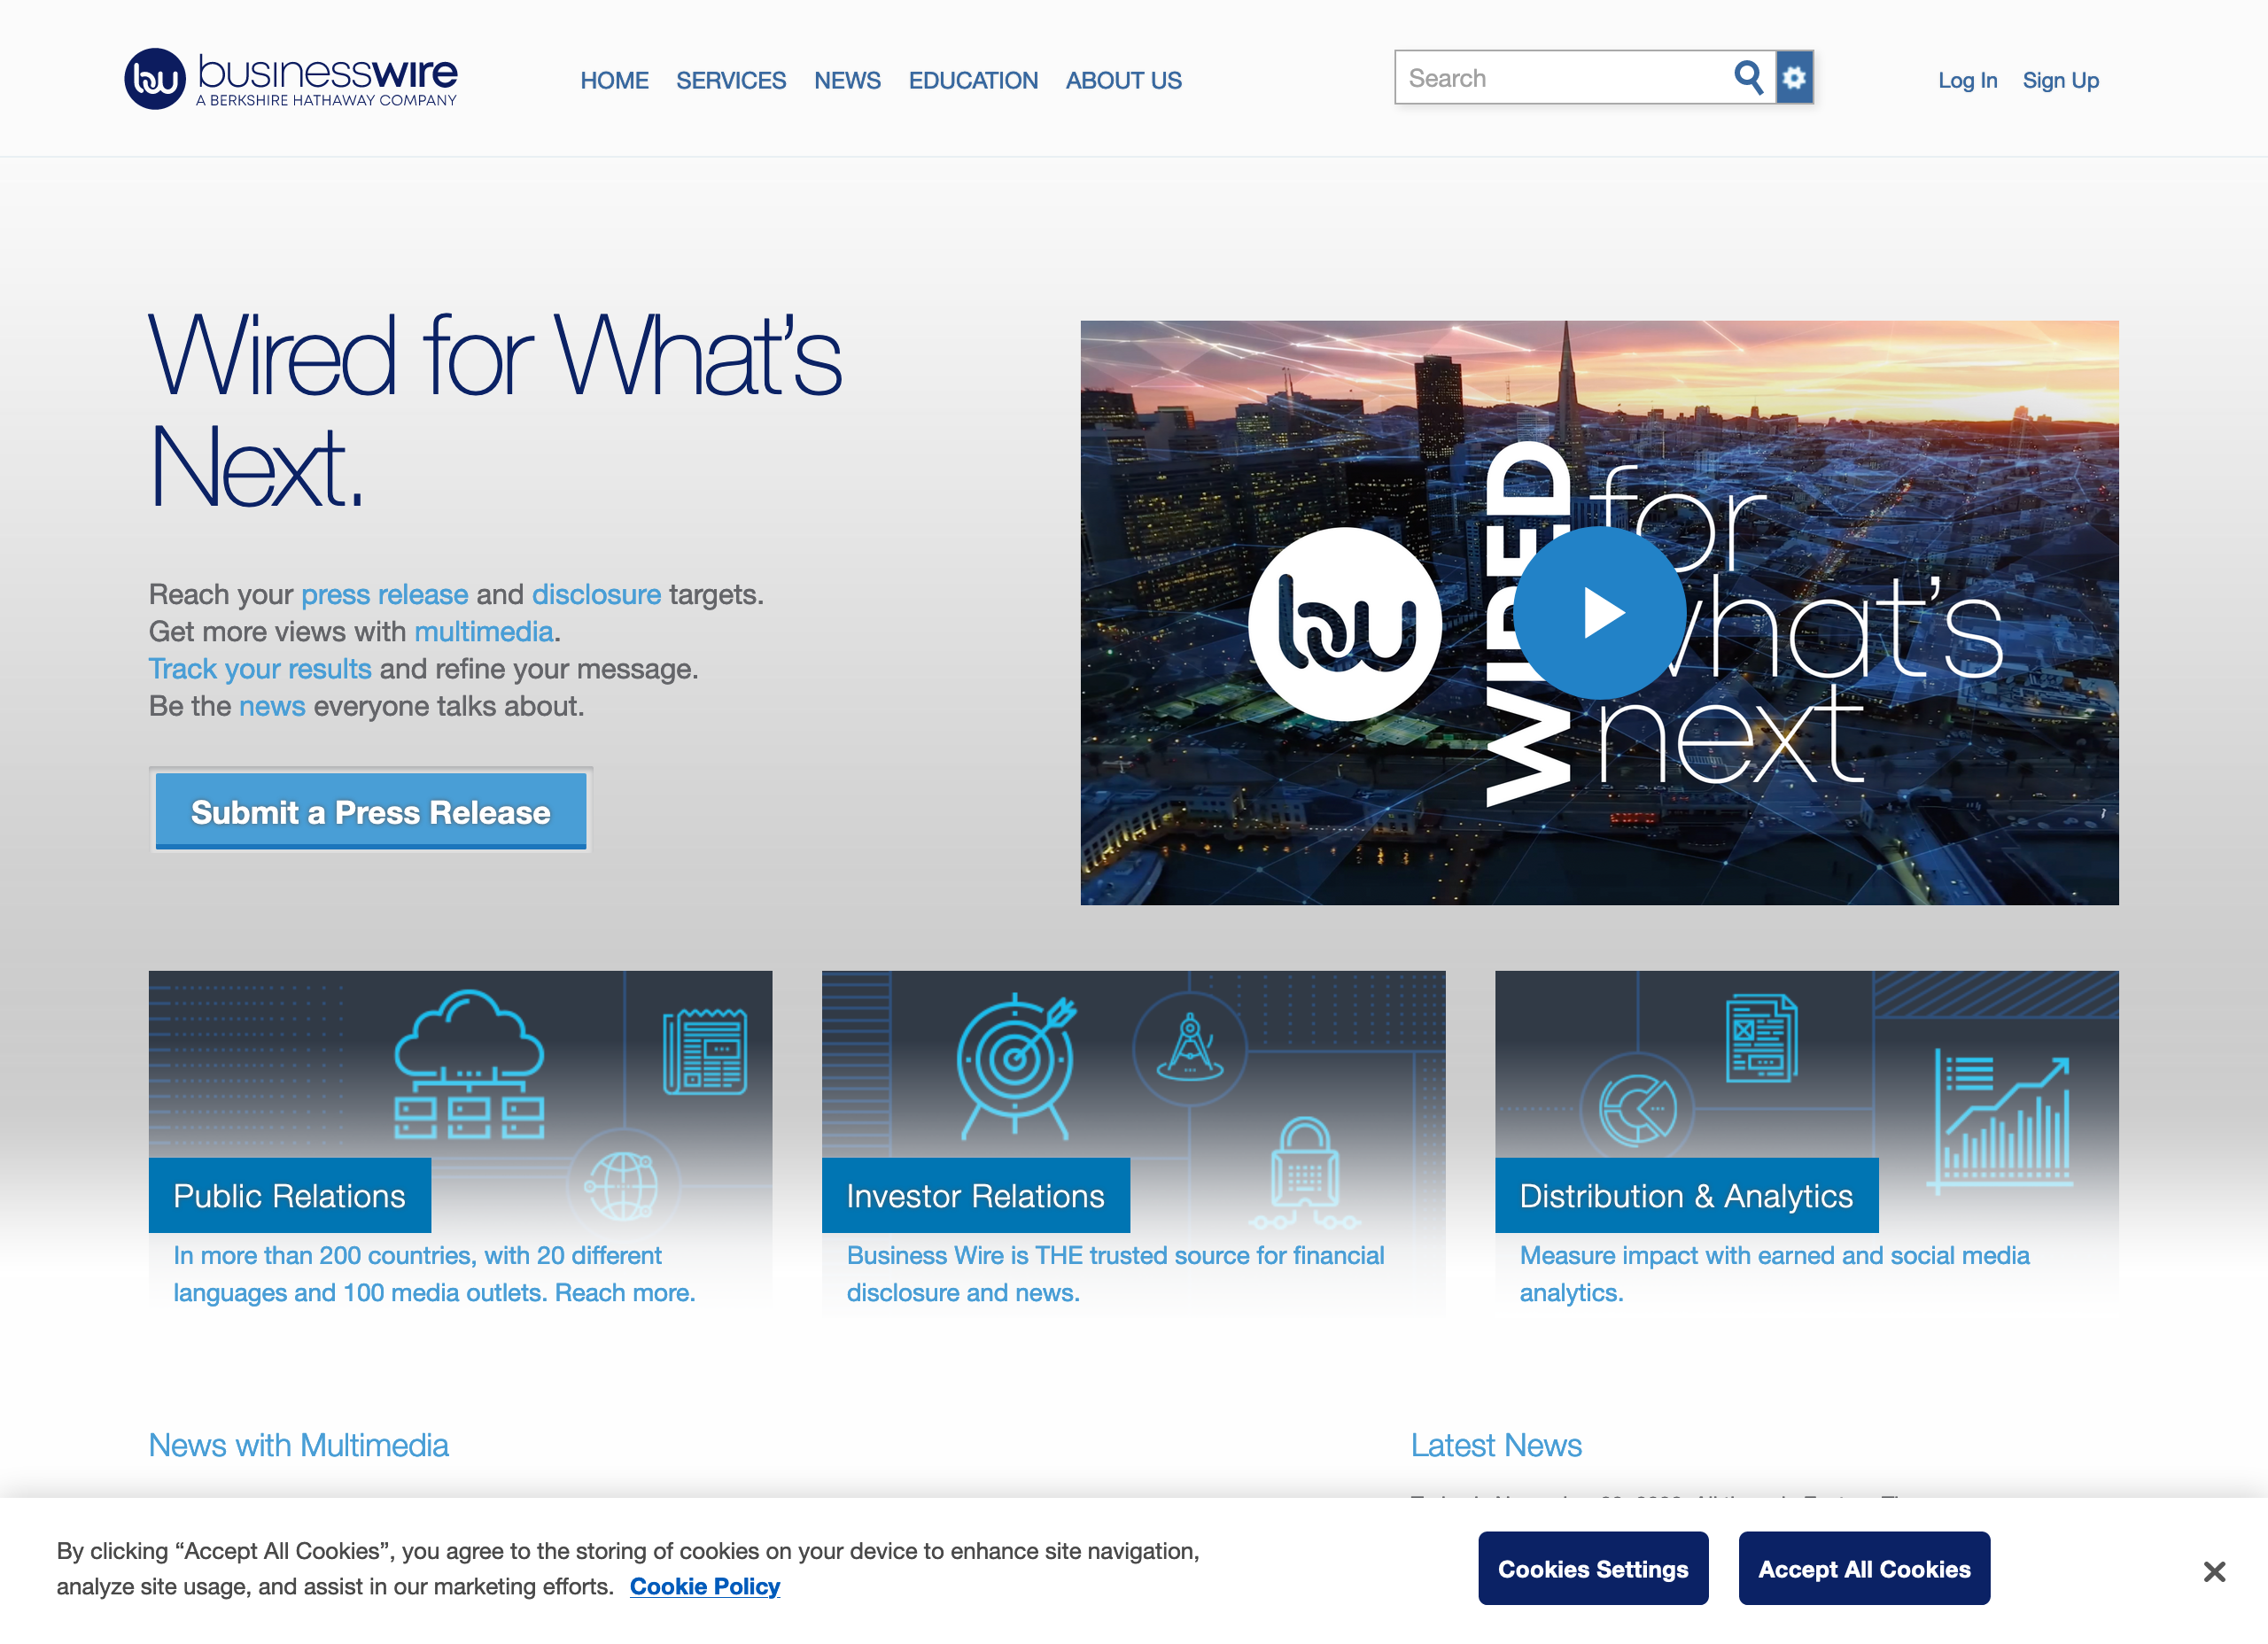Login: (1923, 56, 2009, 100)
